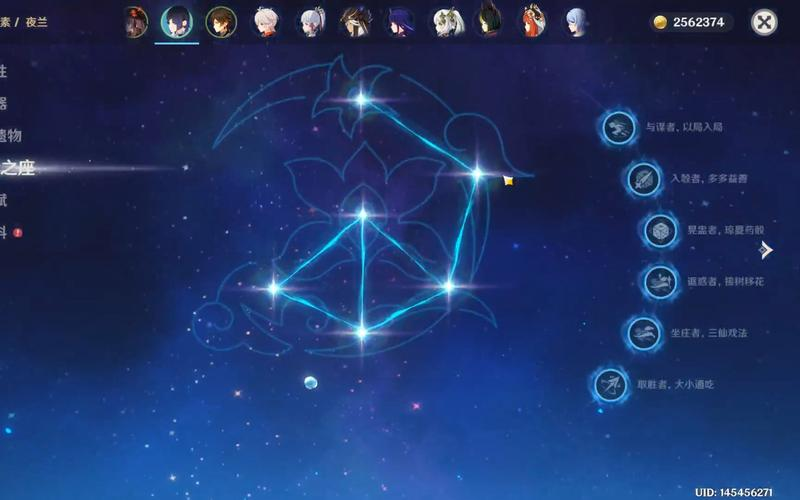夜兰: (162, 8, 192, 37)
